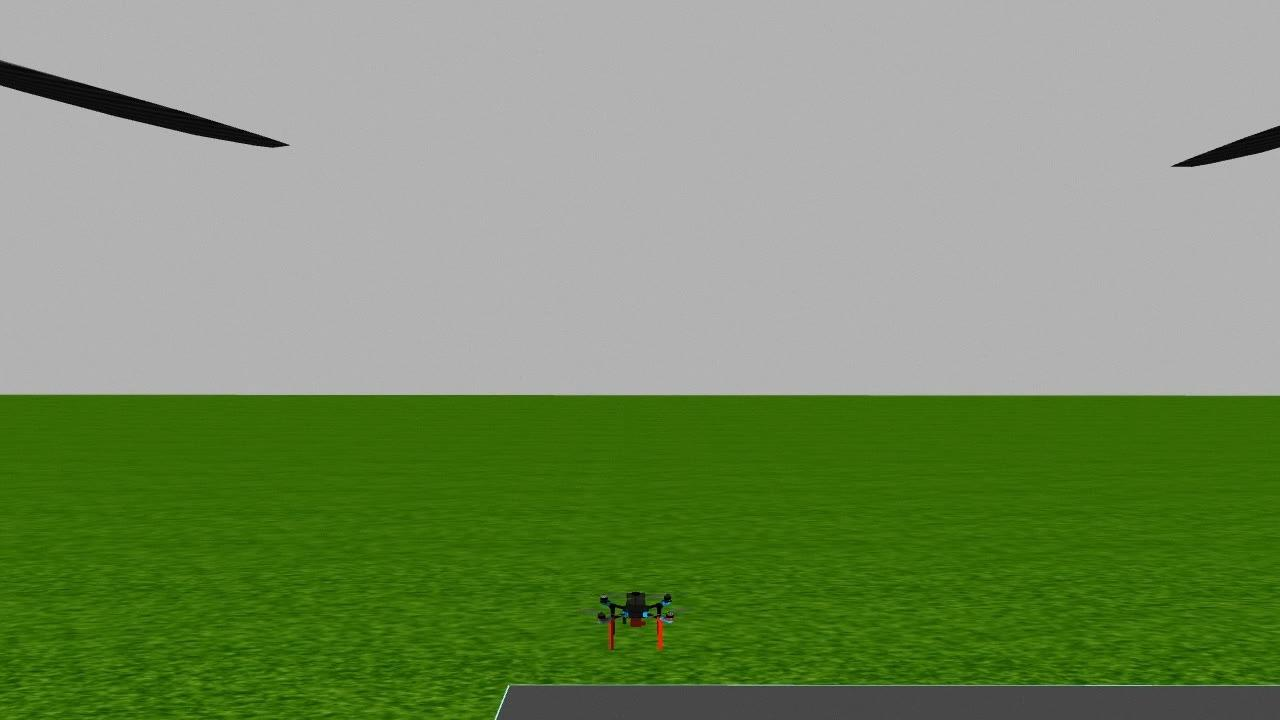UAV: (574, 580, 698, 651)
